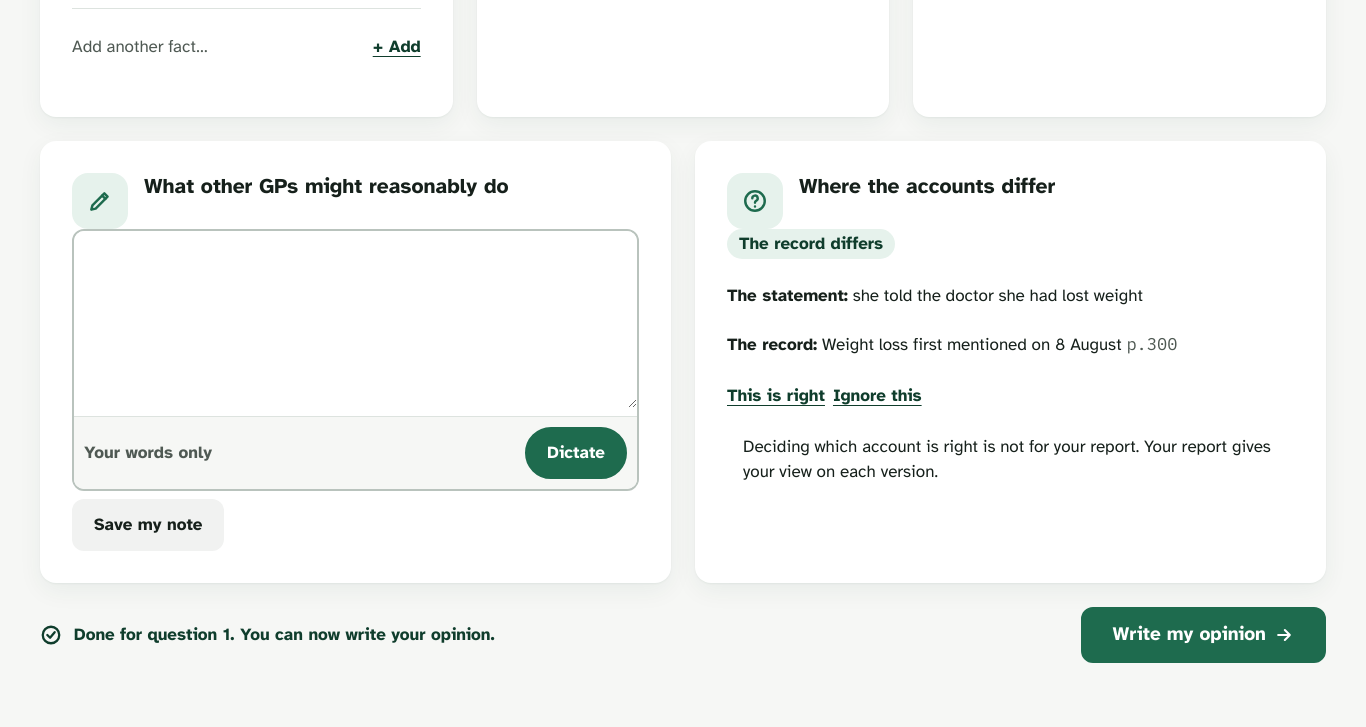
Test: an account that differs shows the statement and the record side by side and can be confirmed
The image size is (1366, 727).
(page scrolled)
Check: the text "she told the doctor she had lost weight" is shown, box [853,284,1143,306]
Check: the text "Weight loss first mentioned on 8 August" is shown, box [822,334,1122,355]
Step 1. Click the button "This is right" → [776, 396], box [727,370,825,422]
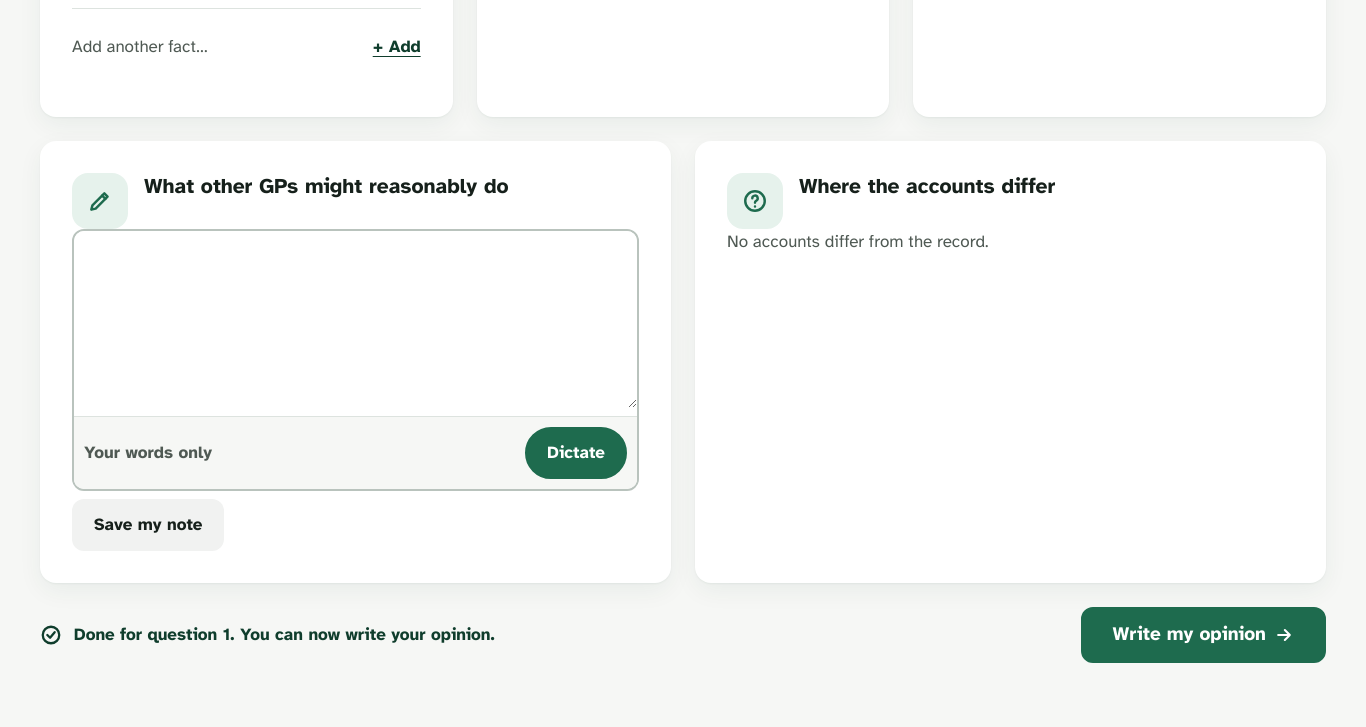
Check: the text "Weight loss first mentioned on 8 August" is gone
